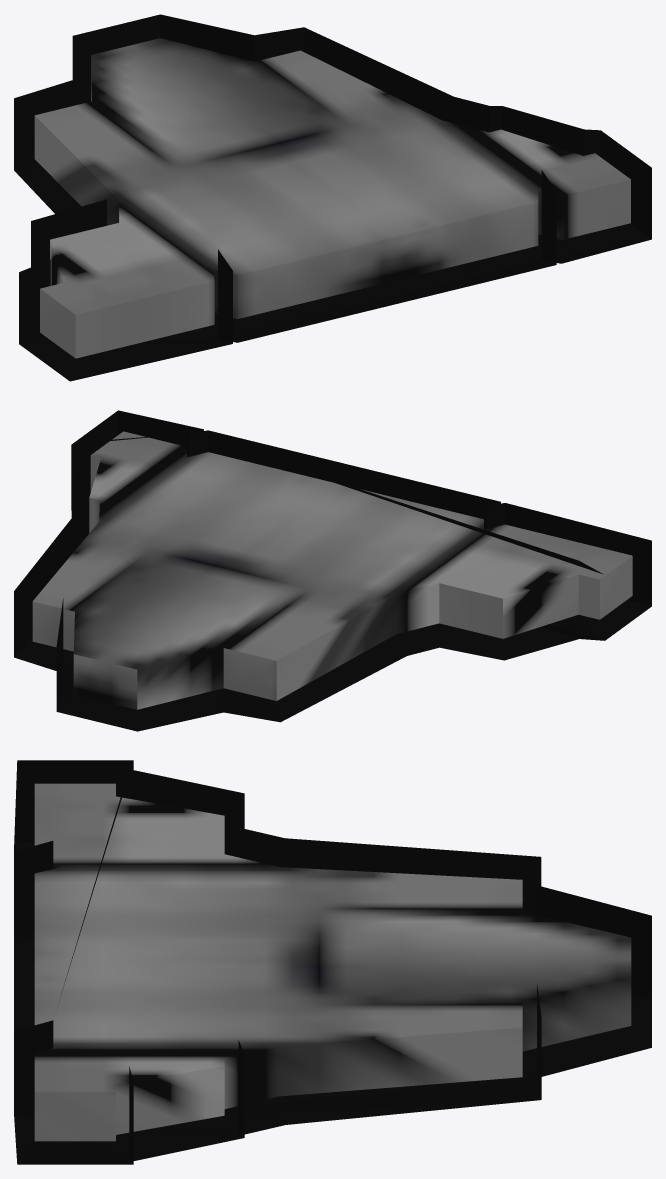
File: Building_TrapIED_Smoke_Things_Building_Security_IEDSmoke.glb
The picture shows the model from 3 angles, top to bottom: view 1: azimuth 30°, elevation 25°; view 2: azimuth 150°, elevation 25°; view 3: azimuth 270°, elevation 25°; orthographic projection. The views are drawn at different scales.
Visible parts, largest first — view 1: Body, Outline; view 2: Body, Outline; view 3: Body, Outline.
Part boxes in pixels (x1,y1,x2,y2): Body: [34, 38, 630, 358]; Outline: [14, 14, 651, 381]; Body: [32, 431, 632, 709]; Outline: [14, 410, 651, 731]; Body: [34, 783, 631, 1141]; Outline: [14, 760, 651, 1164].
Size of the model in its own units: 0.7861 by 0.1166 by 0.6566.
Materials: 2 (1 with a texture image).
